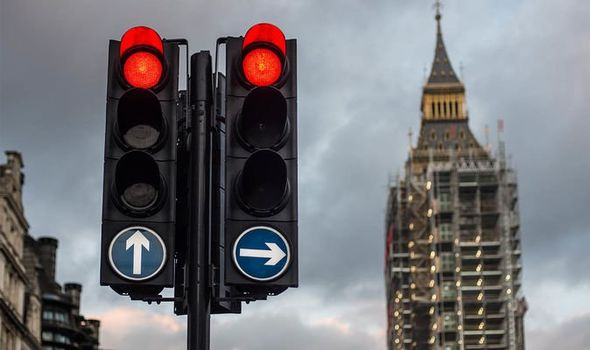trafficLight: (95, 21, 185, 304), (217, 22, 307, 295)
